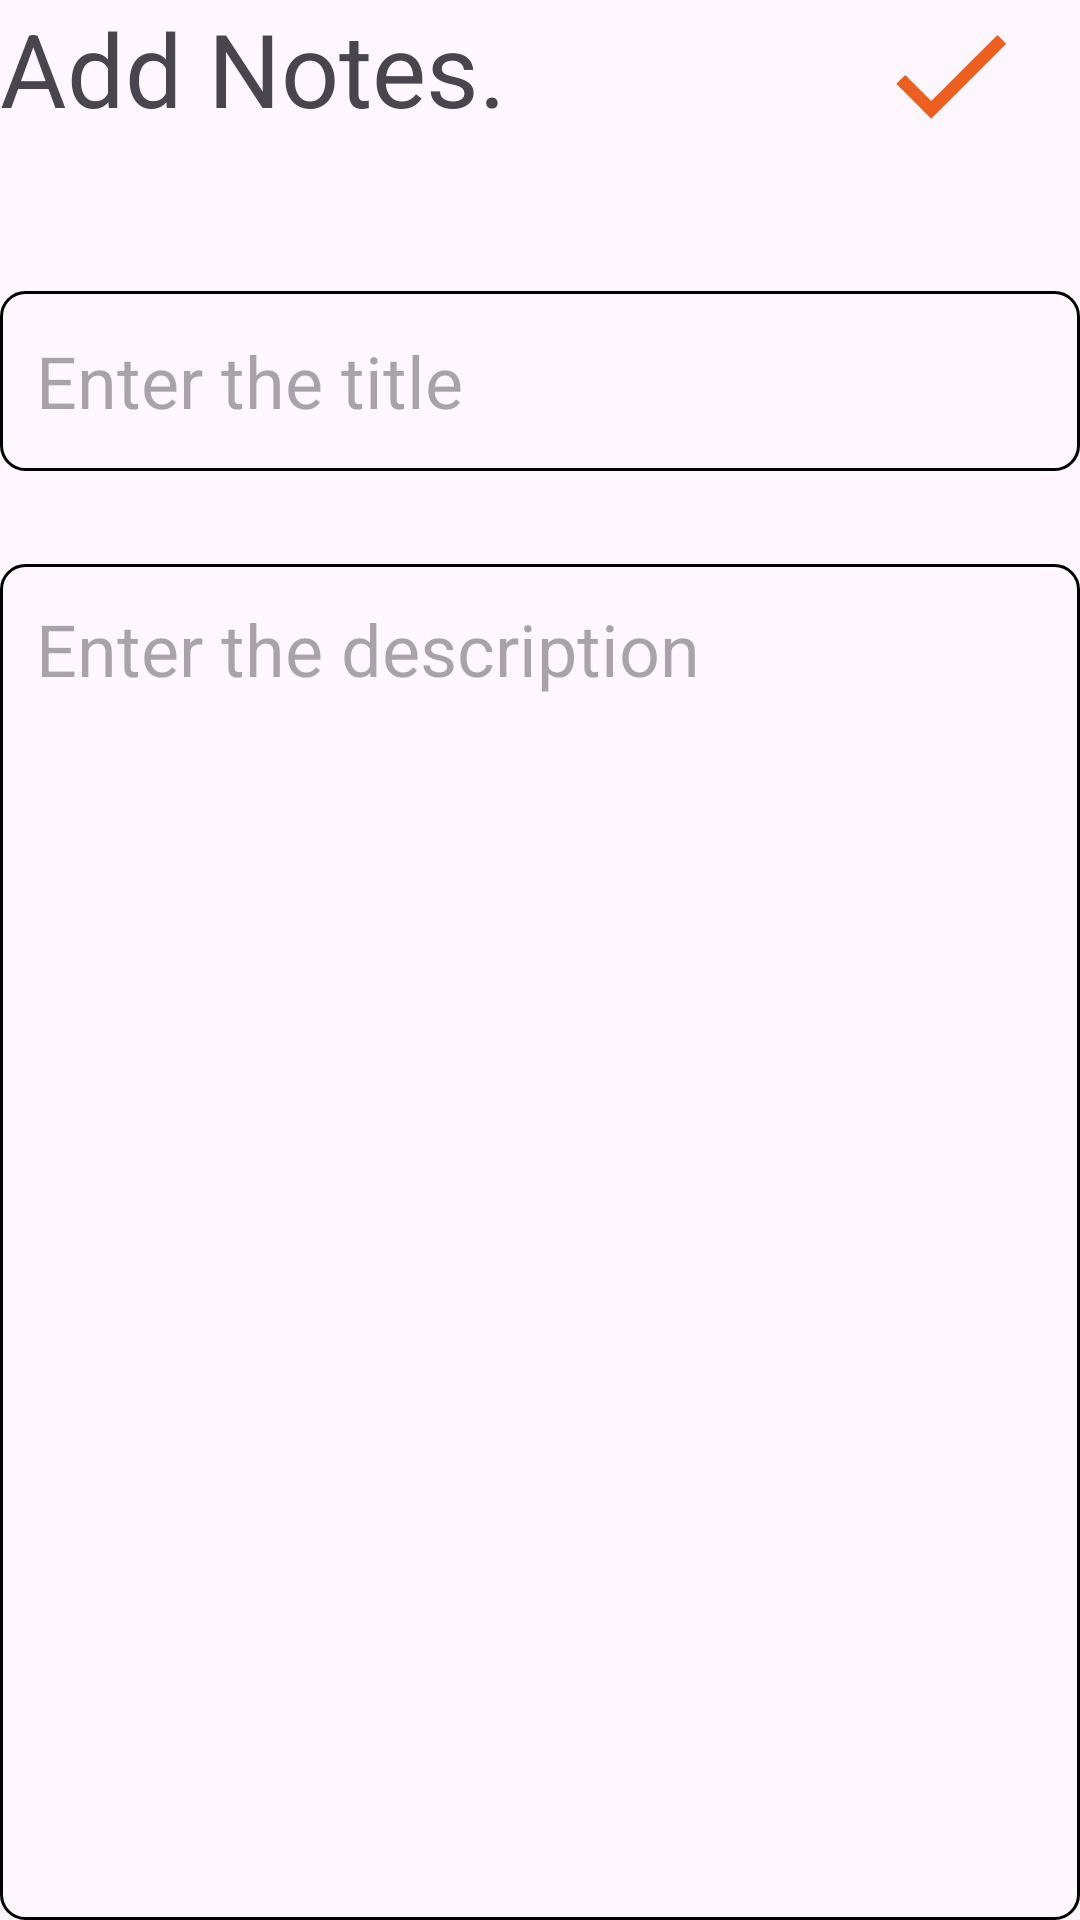

Named icons in this screenshot (1080×1920) and their bounding boxes, (x1, y1, x2, y2):
done: (896, 35, 1006, 119)
